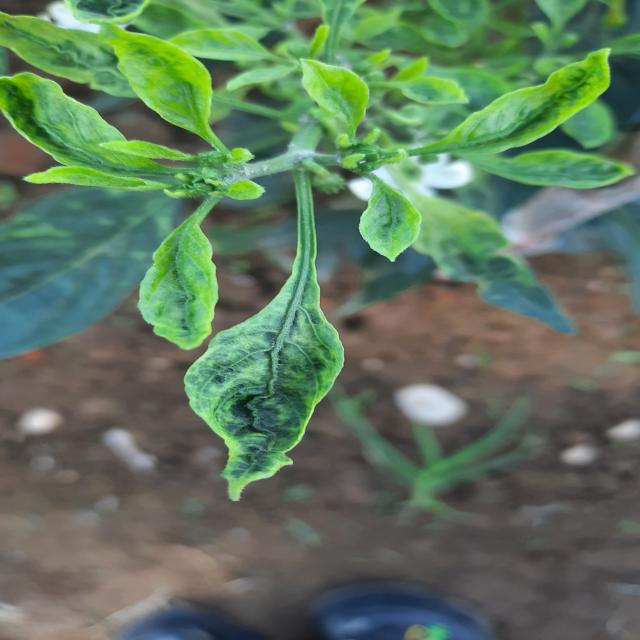thrips: (174, 278, 361, 506), (458, 46, 626, 165), (0, 70, 171, 176), (111, 227, 253, 354)
